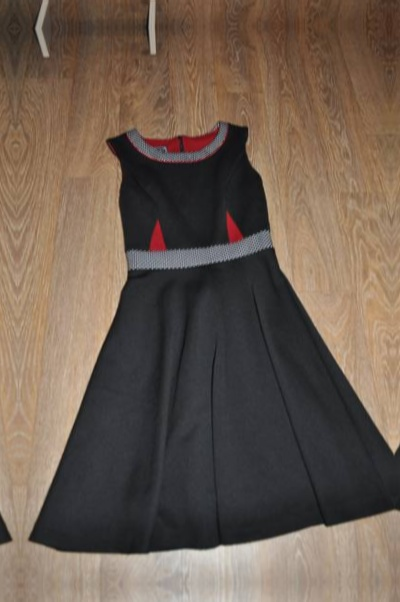Dress: (17, 105, 387, 563), (0, 109, 18, 567), (399, 101, 400, 559)
